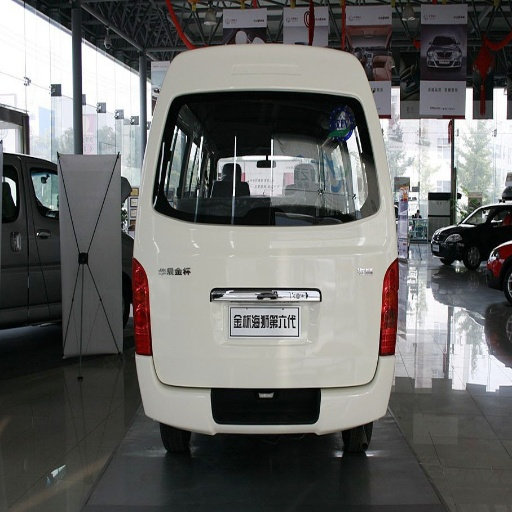back_bumper: (137, 355, 393, 437), (38, 467, 82, 502)
trunk: (149, 221, 395, 381)
